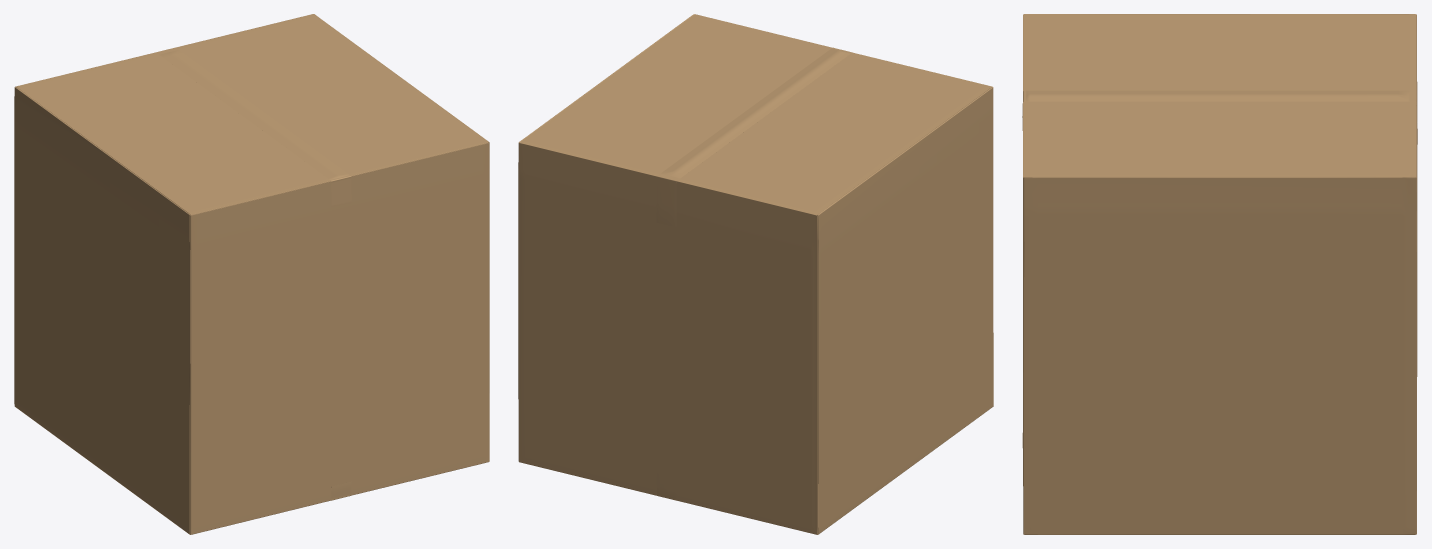
Rendered from warehouse_box_cube_a10.glb.
3 renders of one model, left to right at view 1: azimuth 30°, elevation 25°; view 2: azimuth 150°, elevation 25°; view 3: azimuth 270°, elevation 25°, orthographic. The views are drawn at different scales.
Bounding box in the file's own units: 0.9031 × 0.9216 × 0.9188.
